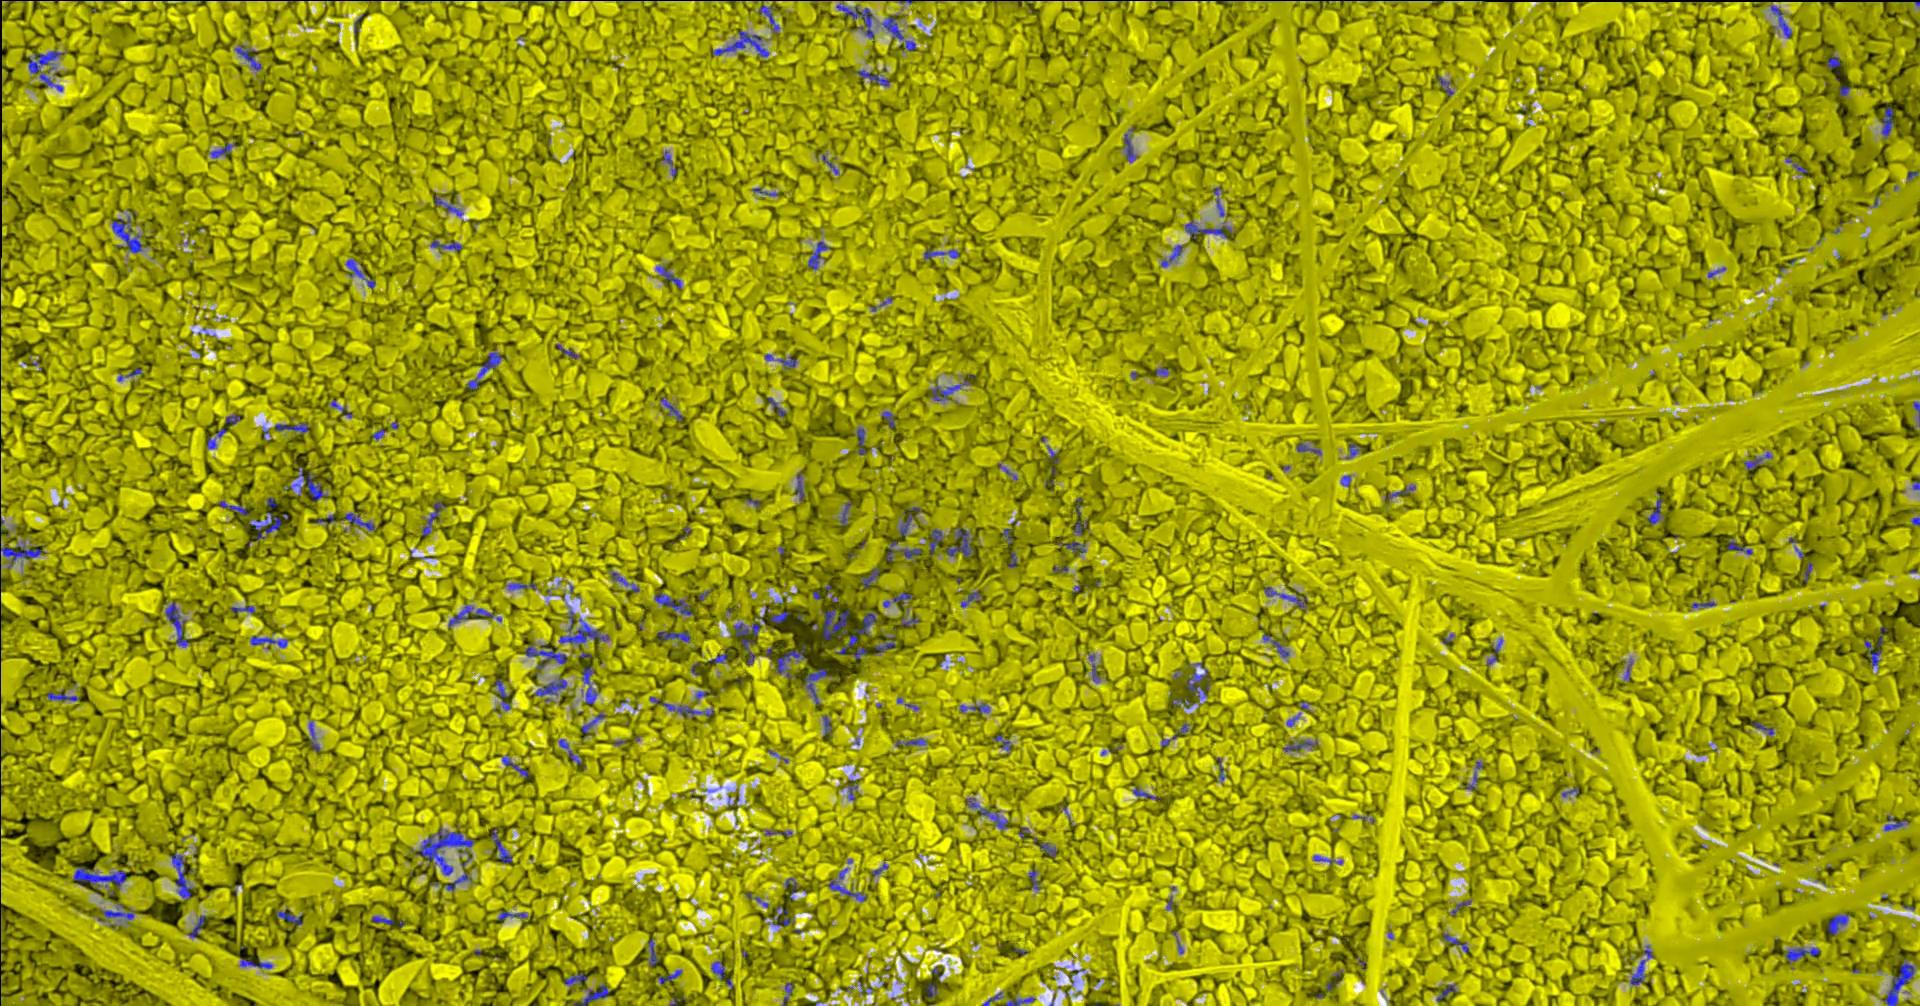ant: (414, 826, 472, 874), (559, 610, 608, 644), (836, 612, 875, 654), (1881, 962, 1914, 1005), (712, 30, 768, 56), (649, 696, 712, 718), (466, 351, 502, 389), (966, 796, 1007, 828), (836, 3, 872, 37), (448, 605, 502, 627), (733, 622, 759, 666), (72, 866, 126, 888), (110, 216, 141, 251), (524, 644, 566, 669), (165, 601, 188, 647), (0, 541, 41, 567), (776, 644, 806, 677), (1263, 586, 1307, 607), (1864, 626, 1887, 667), (249, 511, 281, 540), (171, 852, 192, 897), (345, 258, 375, 288), (297, 466, 323, 500), (1185, 662, 1209, 697), (822, 608, 850, 639), (804, 668, 827, 705), (1183, 220, 1230, 238), (28, 50, 63, 72), (945, 527, 971, 558), (573, 983, 610, 1005), (422, 500, 444, 535), (828, 880, 866, 901), (654, 593, 691, 614), (533, 678, 566, 700), (234, 44, 262, 70), (490, 828, 510, 862), (758, 0, 778, 33), (1770, 5, 1790, 38), (899, 506, 921, 535), (1262, 633, 1288, 657), (502, 754, 528, 777), (710, 962, 733, 988), (808, 241, 829, 269), (931, 381, 961, 400), (215, 414, 240, 437), (611, 572, 639, 592), (857, 69, 889, 86), (493, 678, 510, 710), (434, 196, 463, 215), (657, 265, 681, 288), (881, 14, 903, 39), (344, 512, 375, 530), (582, 666, 596, 704), (102, 903, 133, 920), (1743, 451, 1771, 469), (660, 398, 682, 420), (580, 713, 604, 733), (444, 871, 470, 890), (1784, 948, 1818, 962), (1161, 244, 1182, 265), (772, 904, 794, 926), (1826, 913, 1848, 935), (1384, 485, 1415, 500), (1647, 492, 1661, 525), (883, 591, 910, 607), (1881, 102, 1893, 137), (1443, 934, 1468, 951), (39, 72, 62, 91), (250, 635, 287, 647), (1726, 537, 1751, 554), (218, 500, 248, 514), (187, 915, 204, 937), (274, 422, 309, 433), (430, 239, 461, 251), (861, 567, 879, 588), (662, 150, 676, 177), (1131, 788, 1161, 800), (210, 142, 234, 158), (657, 969, 681, 984), (766, 398, 785, 417), (239, 956, 270, 968), (330, 399, 350, 417), (874, 636, 895, 653), (1123, 133, 1135, 161), (928, 528, 942, 554), (1630, 959, 1644, 984), (1436, 74, 1451, 97), (923, 249, 957, 259), (1283, 741, 1317, 751), (276, 911, 302, 923), (1436, 984, 1455, 1002), (555, 344, 579, 358), (1884, 815, 1909, 829), (960, 591, 980, 607), (657, 631, 690, 641), (709, 647, 729, 663), (46, 690, 77, 700), (1826, 56, 1840, 79), (1057, 541, 1084, 553), (959, 702, 989, 713), (783, 876, 796, 901), (564, 970, 585, 984), (309, 721, 319, 751), (993, 734, 1012, 749), (794, 473, 804, 500), (1088, 654, 1098, 682), (498, 909, 526, 920), (1297, 442, 1321, 453), (1751, 721, 1773, 734), (1004, 996, 1035, 1005), (777, 354, 795, 368), (648, 937, 657, 965), (841, 500, 851, 525), (770, 610, 789, 622), (856, 427, 865, 453), (782, 982, 792, 1005), (1039, 842, 1055, 856), (229, 605, 254, 614), (895, 738, 924, 746), (899, 547, 921, 558), (1172, 697, 1194, 708), (885, 541, 897, 560), (822, 715, 830, 739), (881, 412, 894, 428), (1073, 520, 1087, 533), (1345, 443, 1357, 459), (507, 583, 535, 589), (371, 916, 392, 923), (924, 983, 936, 997)
